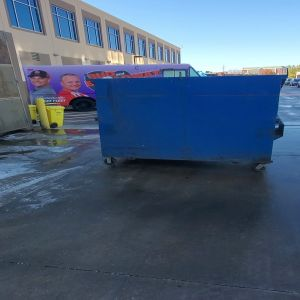Dumpster: (93, 78, 286, 174)
Person: (26, 69, 55, 93), (60, 73, 83, 97)
